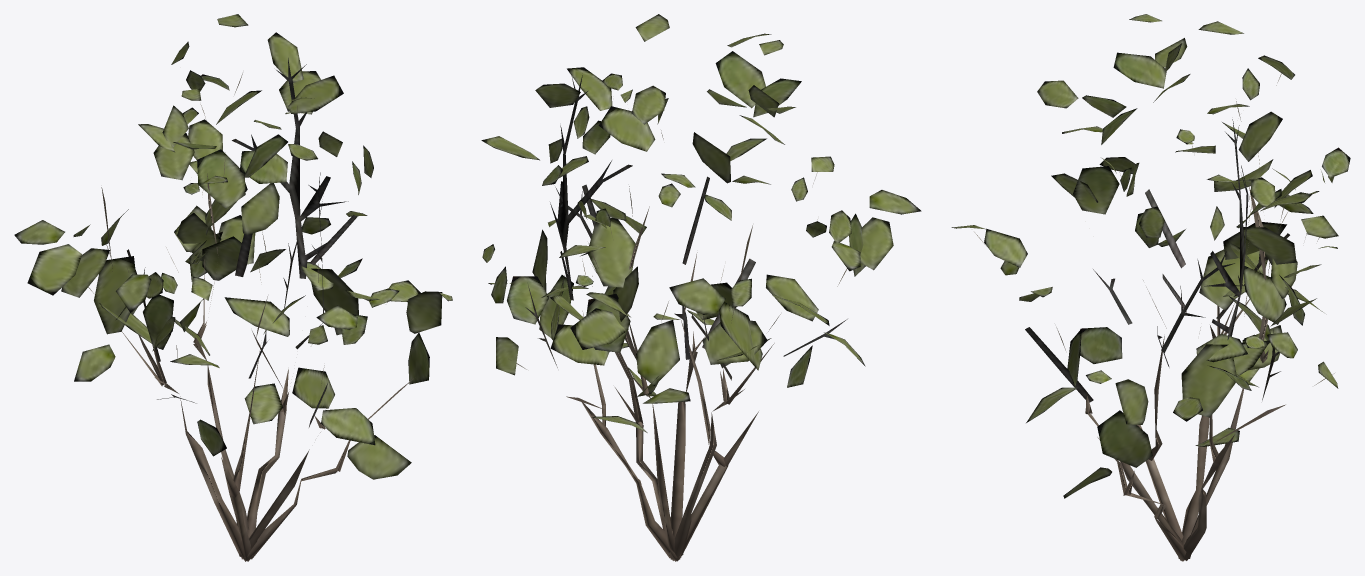
The model's file is arbuste_searsia_d_lod2.glb.
3 renders of one model, left to right at view 1: azimuth 30°, elevation 25°; view 2: azimuth 150°, elevation 25°; view 3: azimuth 270°, elevation 25°, orthographic. The views are drawn at different scales.
Parts seen in each view (by area): view 1: searsia_lucida_d_LOD0; view 2: searsia_lucida_d_LOD0; view 3: searsia_lucida_d_LOD0.
Boxes of the visible parts, box(x1,y1,x2,y2) form: searsia_lucida_d_LOD0: box(14, 14, 452, 561); searsia_lucida_d_LOD0: box(481, 14, 921, 561); searsia_lucida_d_LOD0: box(951, 14, 1350, 561).
Size of the model in its own units: 0.9924 by 1.33 by 0.8974.
Materials: 2 (2 with a texture image).
